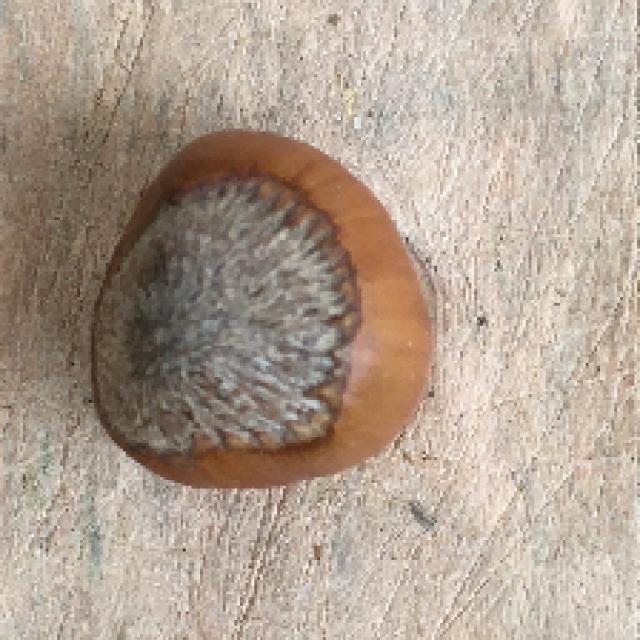qualityHazelnut: (86, 126, 447, 497)
